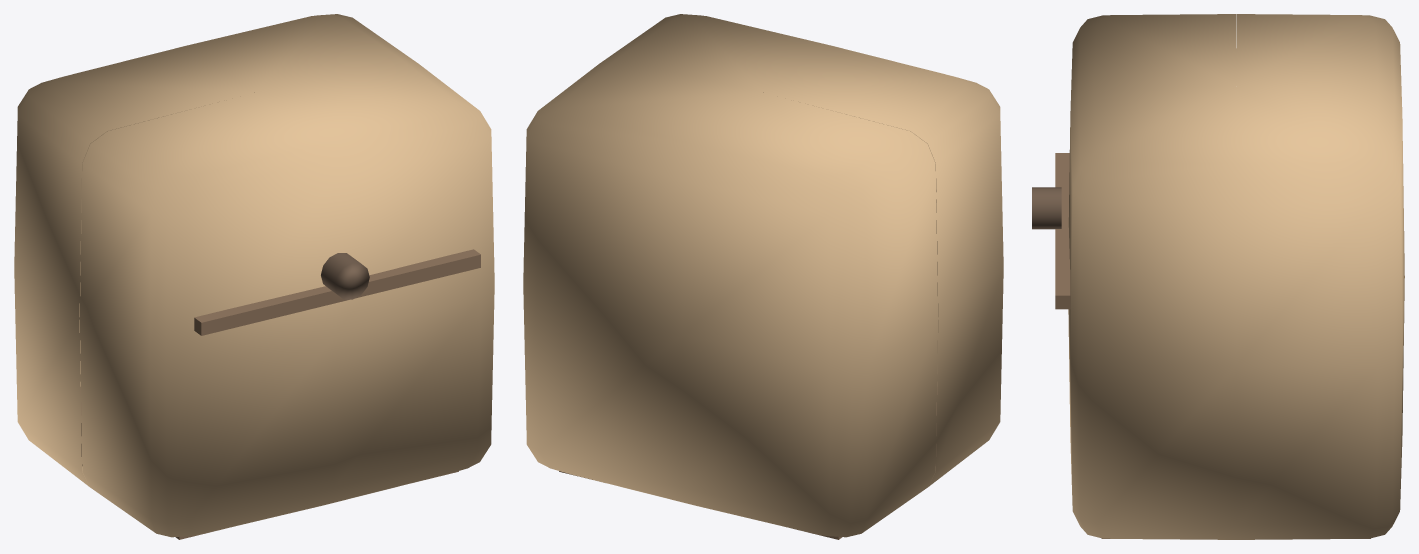
Rendered from nightstand_500x400.glb.
3 renders of one model, left to right at view 1: azimuth 30°, elevation 25°; view 2: azimuth 150°, elevation 25°; view 3: azimuth 270°, elevation 25°, orthographic. The views are drawn at different scales.
Visible parts, largest first — view 1: nightstand_body, drawer_line, small_round_knob; view 2: nightstand_body; view 3: nightstand_body, drawer_line, small_round_knob.
Part boxes in pixels (bbox=[...]): nightstand_body: bbox=[14, 14, 494, 537]; drawer_line: bbox=[194, 249, 480, 335]; small_round_knob: bbox=[321, 253, 369, 299]; nightstand_body: bbox=[523, 14, 1003, 537]; nightstand_body: bbox=[1068, 14, 1404, 539]; drawer_line: bbox=[1055, 153, 1070, 309]; small_round_knob: bbox=[1032, 187, 1061, 229].
Size of the model in its own units: 0.5 by 0.5 by 0.4425.
